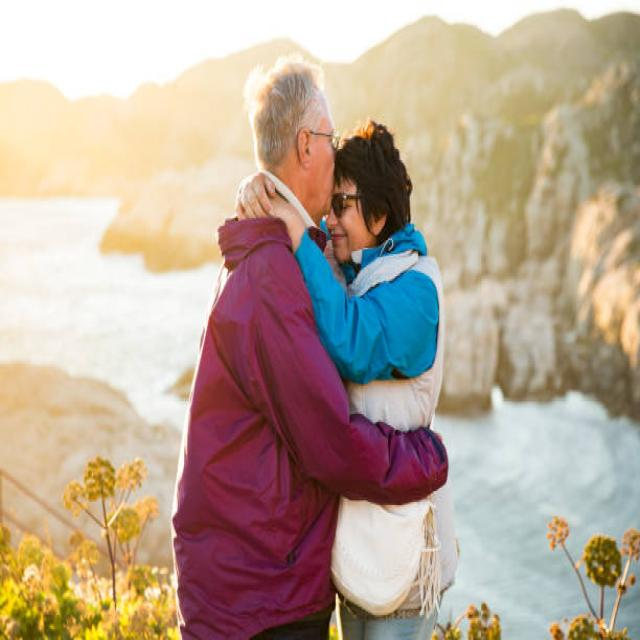Real human 2: (167, 45, 457, 640)
